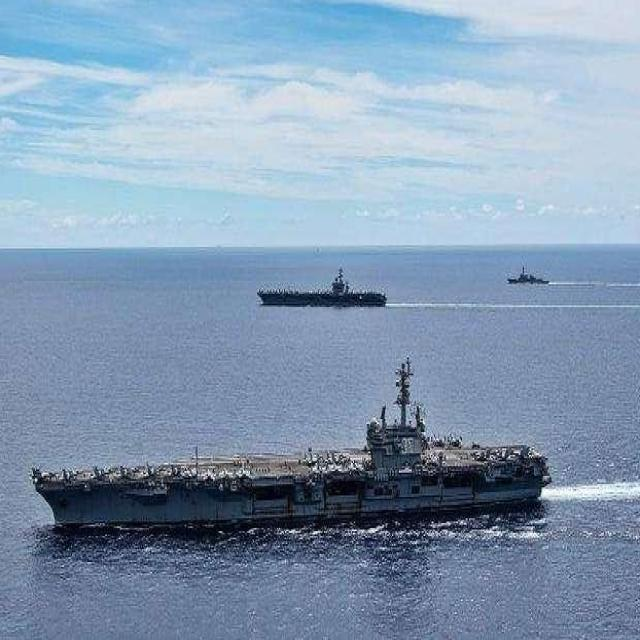navalvessels: (25, 354, 548, 554), (254, 270, 398, 326), (501, 265, 552, 292)
